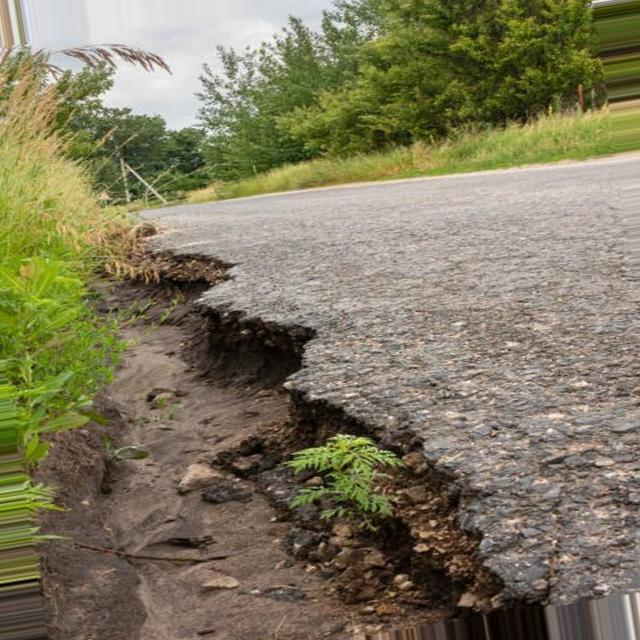Pinggir: (122, 239, 574, 630)
